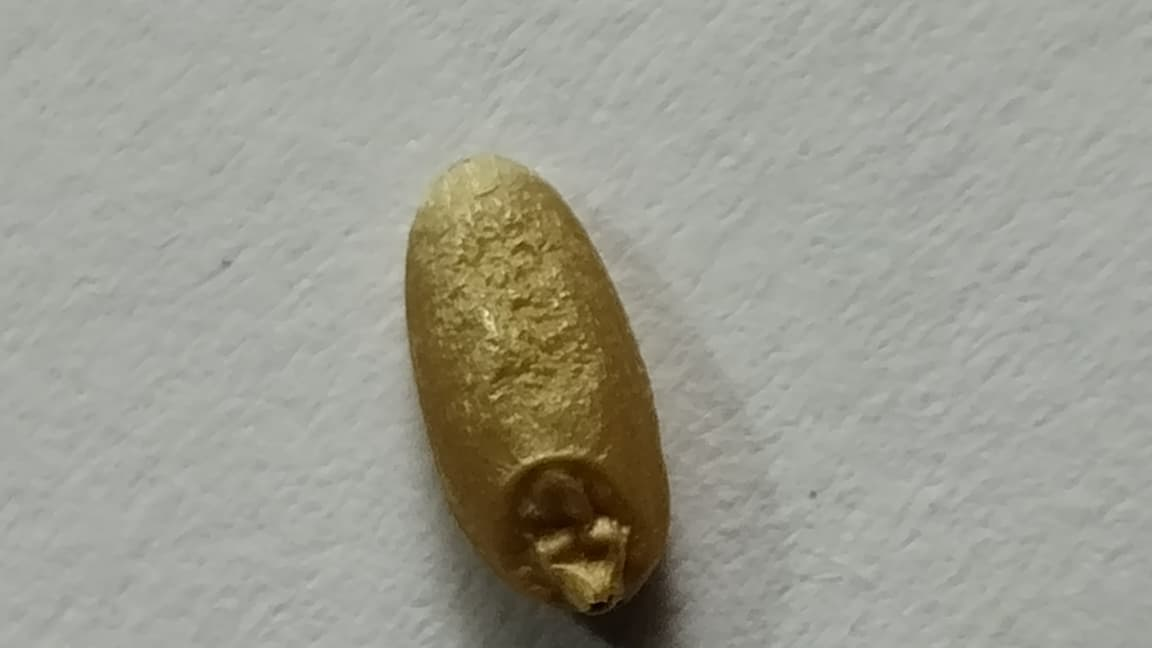healthy: (406, 156, 668, 610)
